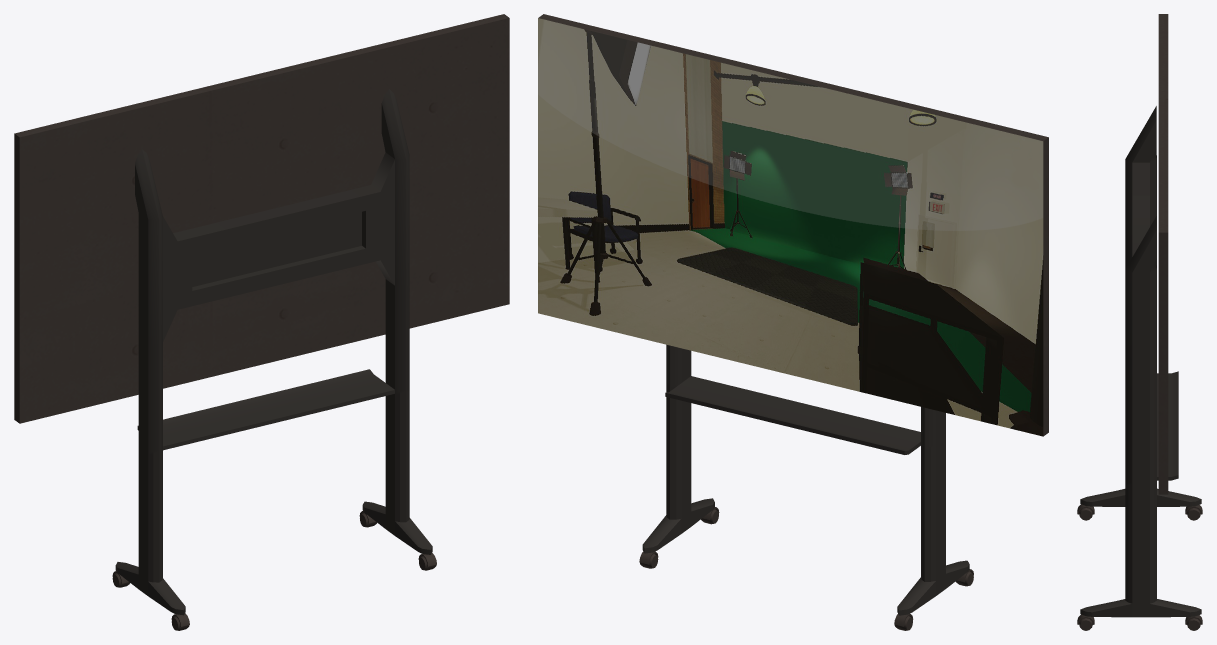
The picture shows the model from 3 angles, left to right: view 1: azimuth 30°, elevation 25°; view 2: azimuth 150°, elevation 25°; view 3: azimuth 270°, elevation 25°; orthographic projection. The views are drawn at different scales.
Parts seen in each view (by area): view 1: TV; view 2: TV; view 3: TV.
Boxes of the visible parts, box(x1,y1,x2,y2) form: TV: box(14, 14, 509, 630); TV: box(538, 14, 1048, 630); TV: box(1077, 14, 1202, 630).
Size of the model in its own units: 3.97 by 3.81 by 0.962.
3 materials, 2 textured.
